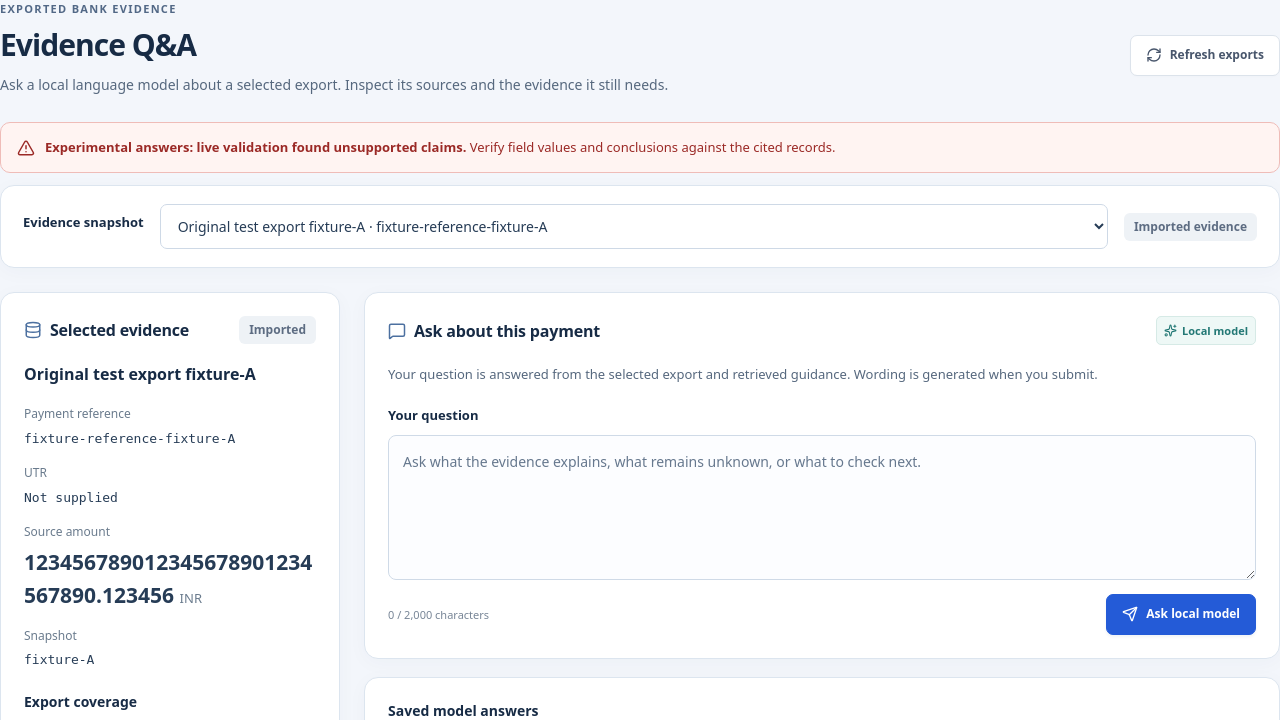
UAT evidence model questions › explains 503 UAT_MODEL_UNAVAILABLE without inventing an answer or discarding the question
Replace the text in the text box labelled "Your question" with "Explain the available export.": (822,507) x1=388 y1=434 x2=1256 y2=580
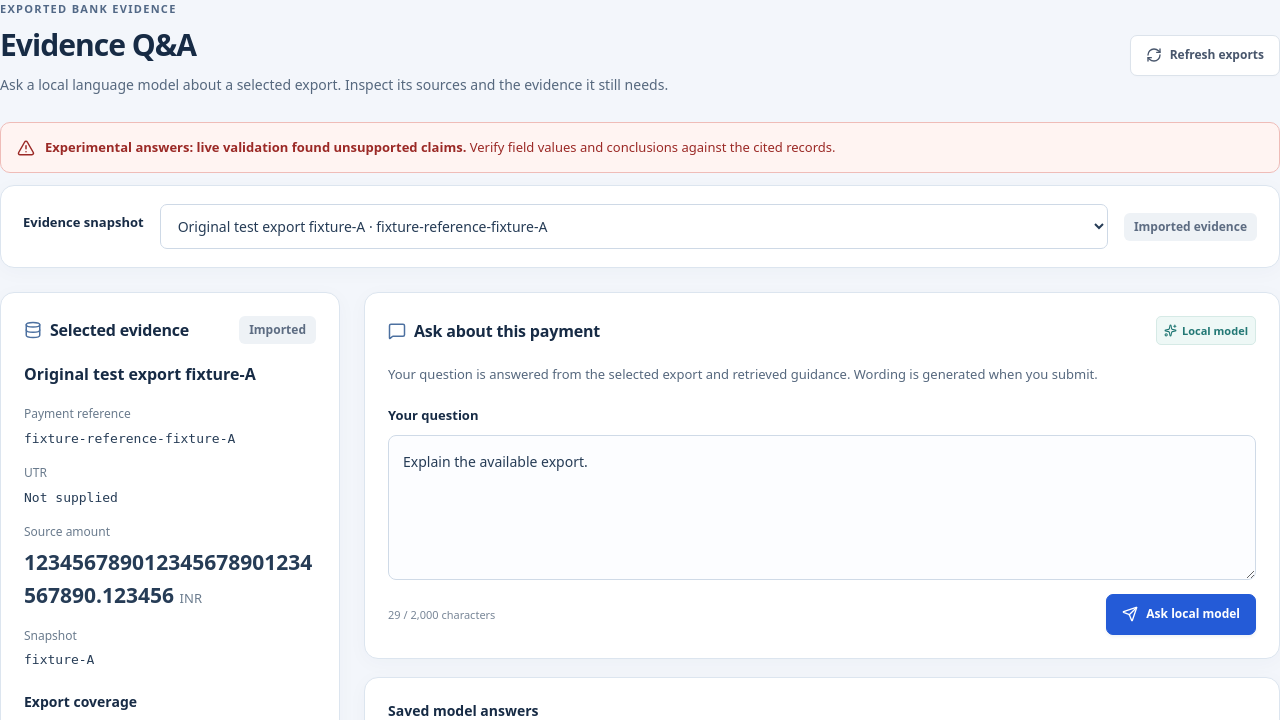
Submit the form labelled "Your question", box x1=388 y1=405 x2=1256 y2=635
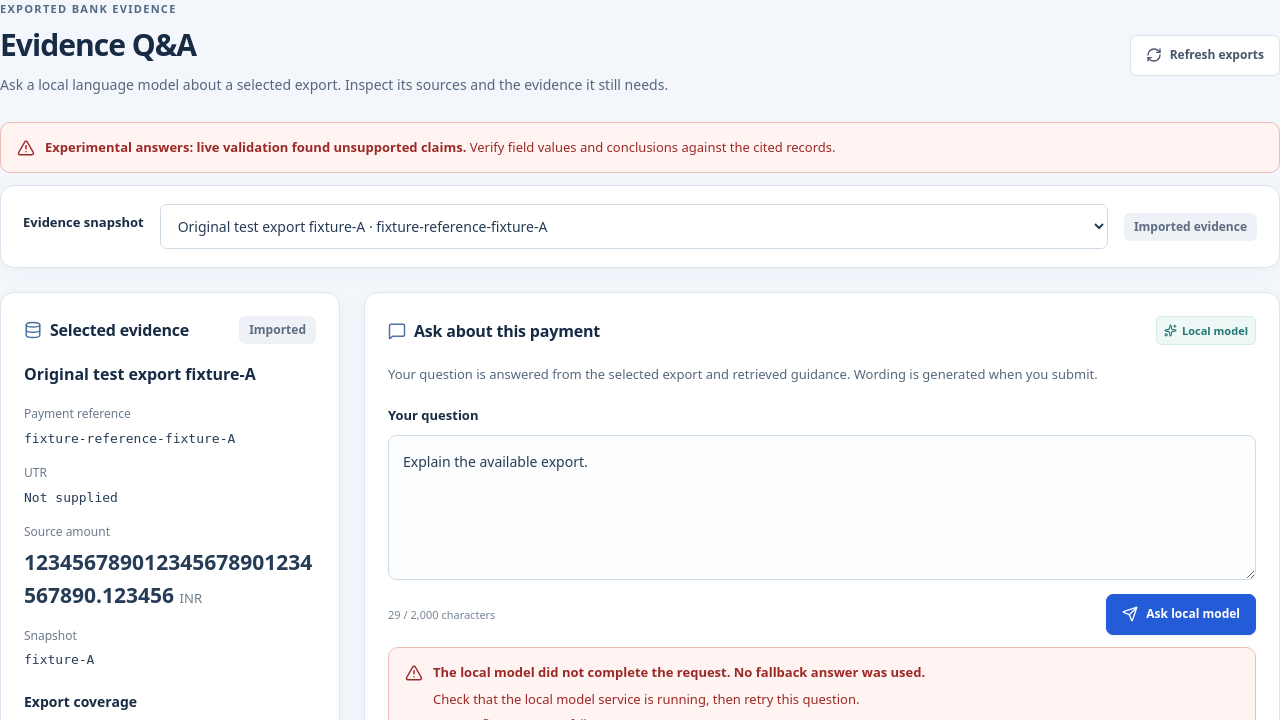
expect the button "Ask local model" is enabled: met, box x1=1106 y1=594 x2=1256 y2=635
expect the message shows "Check that the local model service is running": met, box x1=433 y1=690 x2=860 y2=708
expect the message shows "No fallback answer was used.": met, box x1=433 y1=663 x2=925 y2=681
